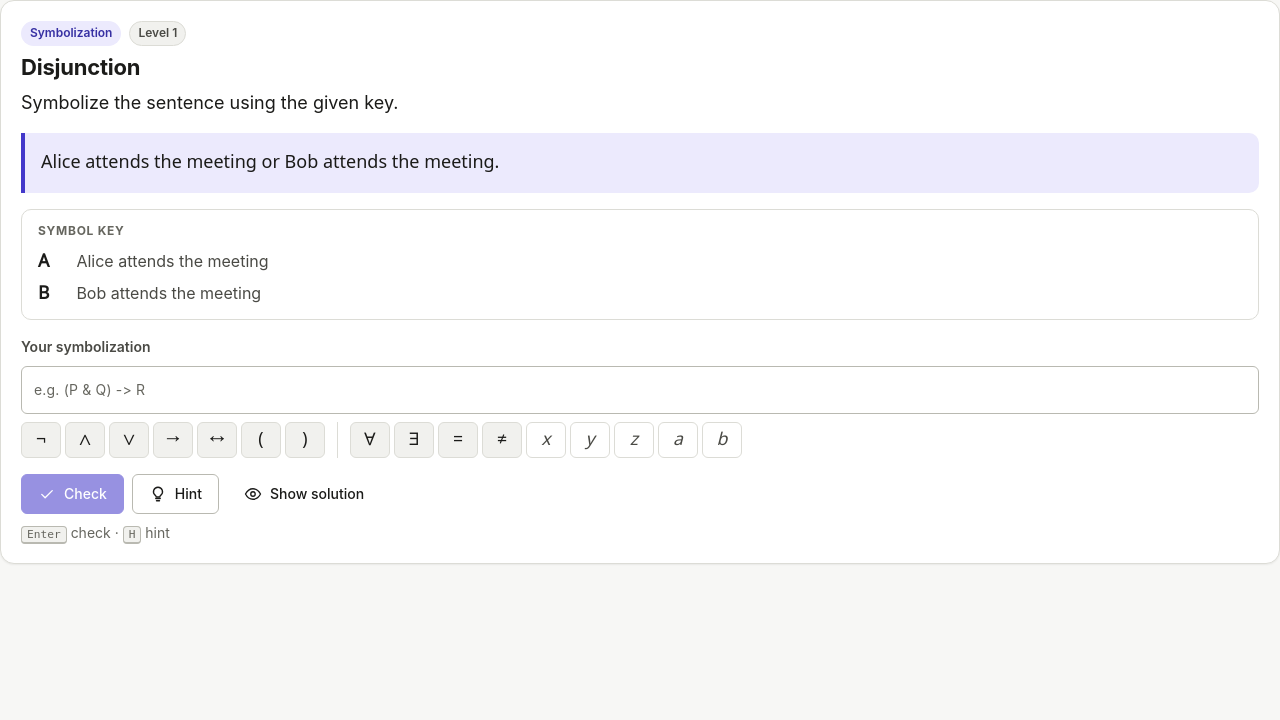
Scenario: hints are progressive and the solution needs confirmation
Click the button "Hint".
click(175, 494)  # box [132,474,219,514]
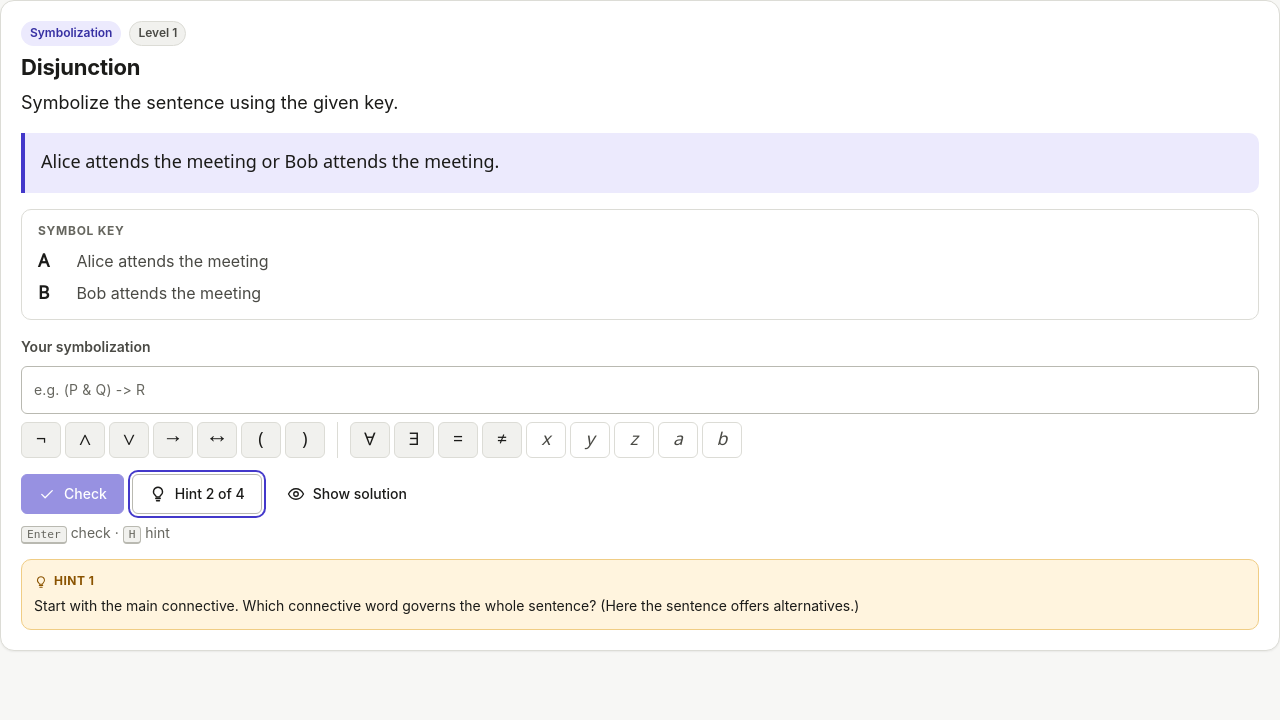
Expected: the text "Hint 1" is shown once, [34,573,94,589]
Click the button "Hint 2 of 4".
click(197, 494)  # box [132,474,262,514]
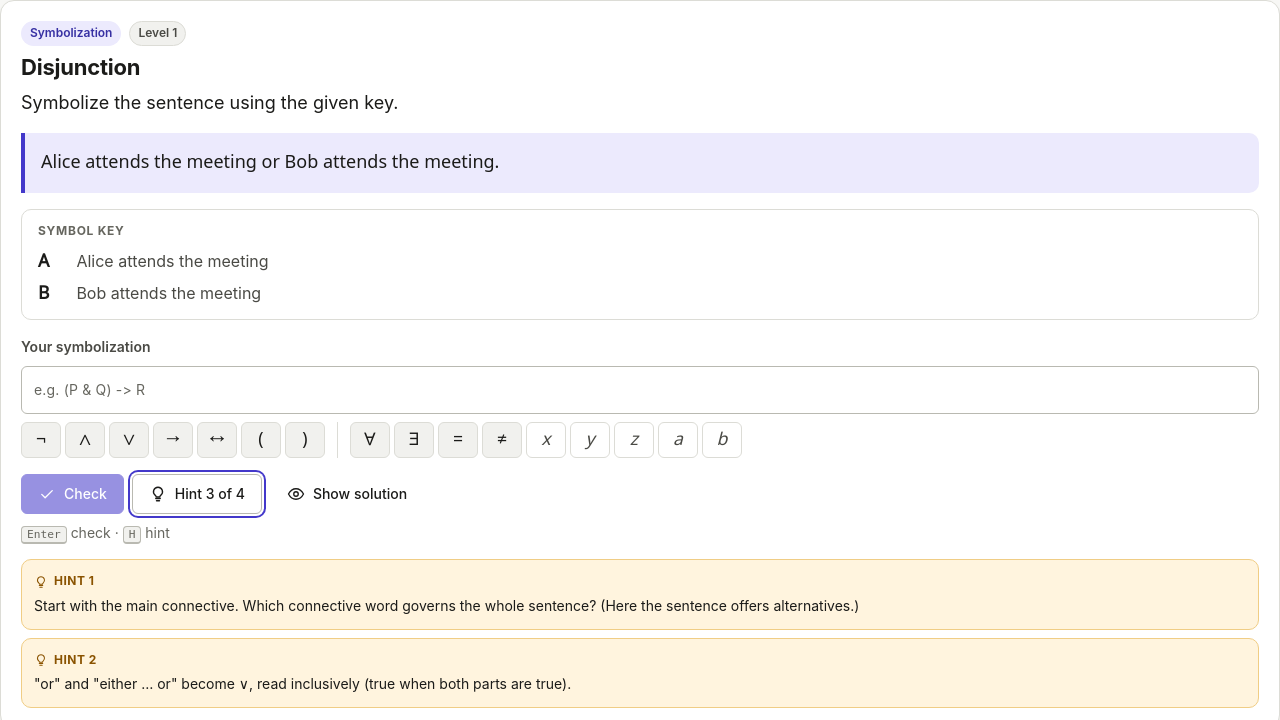
Expected: the text "Hint 2" is shown, [34,652,97,667]
Click the button "Show solution".
click(347, 494)  # box [270,474,424,514]
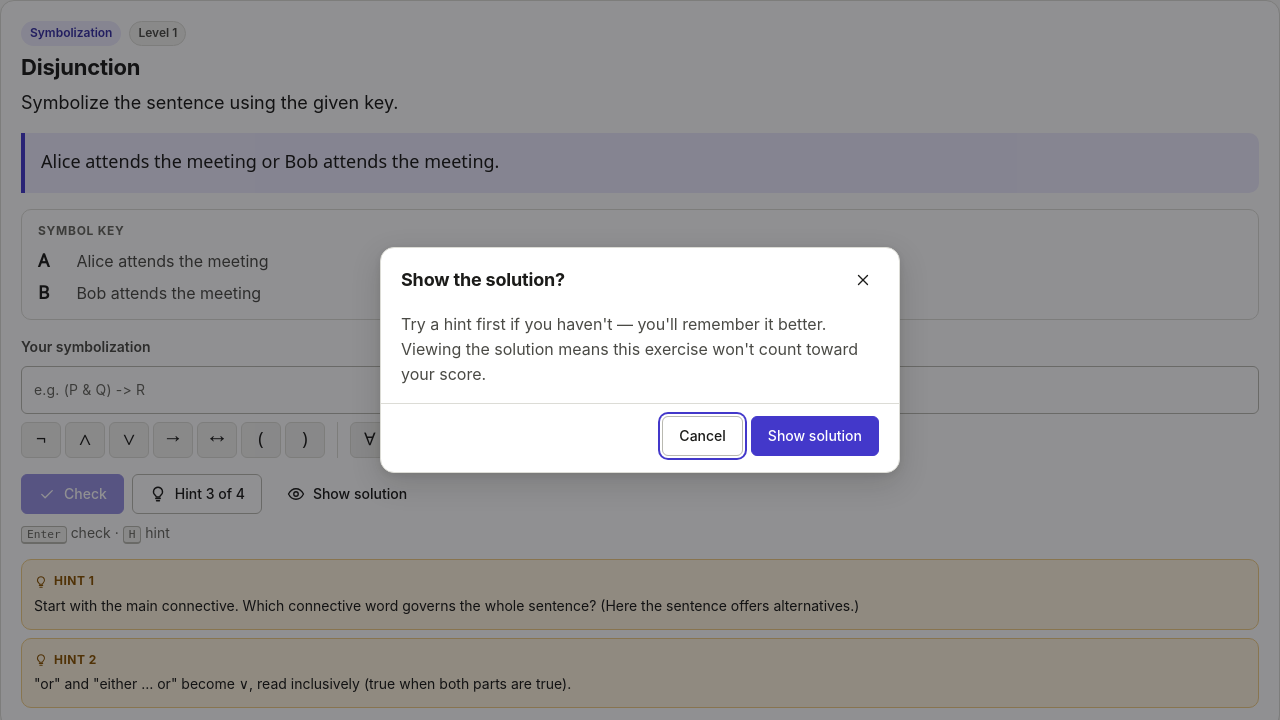
Click the button "Show solution".
click(815, 436)  # box [751,416,879,456]
(page scrolled)
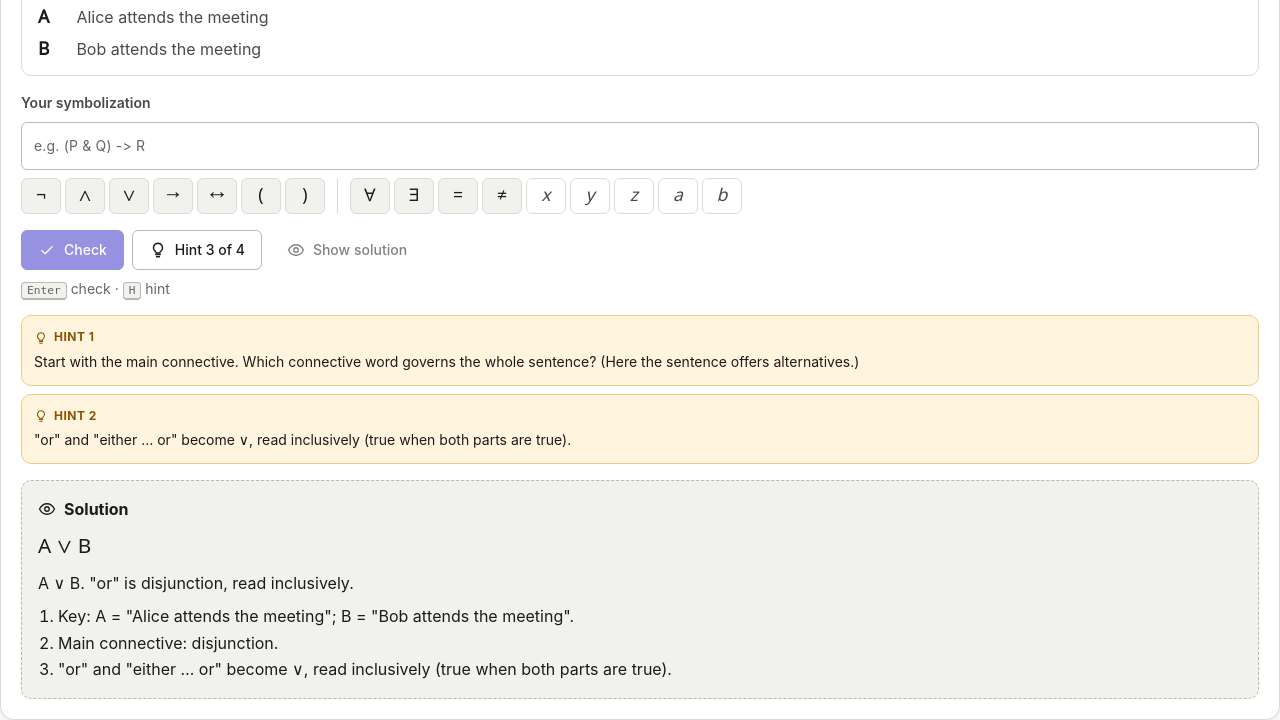
Expected: the element "Solution" is shown, [21,480,1259,699]
